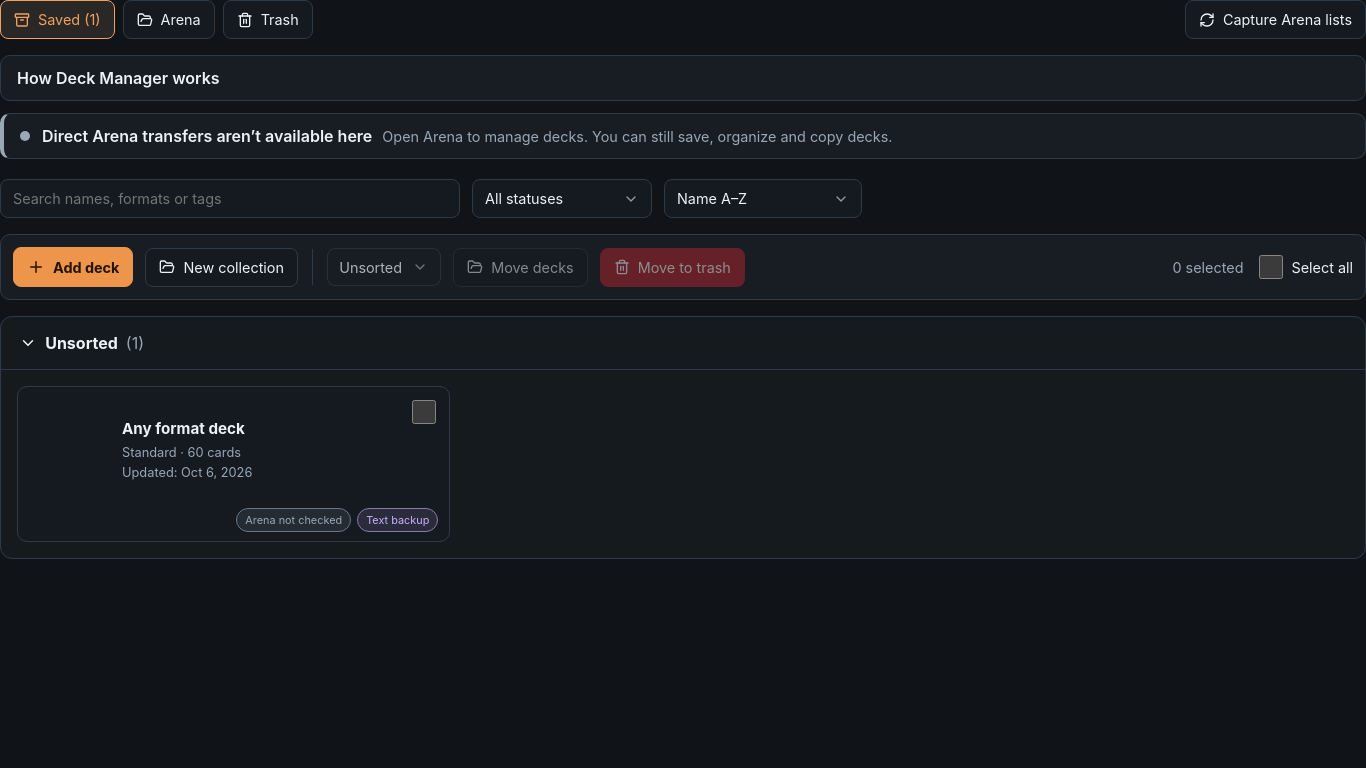
Deck Manager › retains the deck when a confirmed move to Trash fails
The image size is (1366, 768).
Click the button "Any format deck Standard · 60 cards Updated: Oct 6, 2026" at (234, 464), box [17, 386, 450, 542]
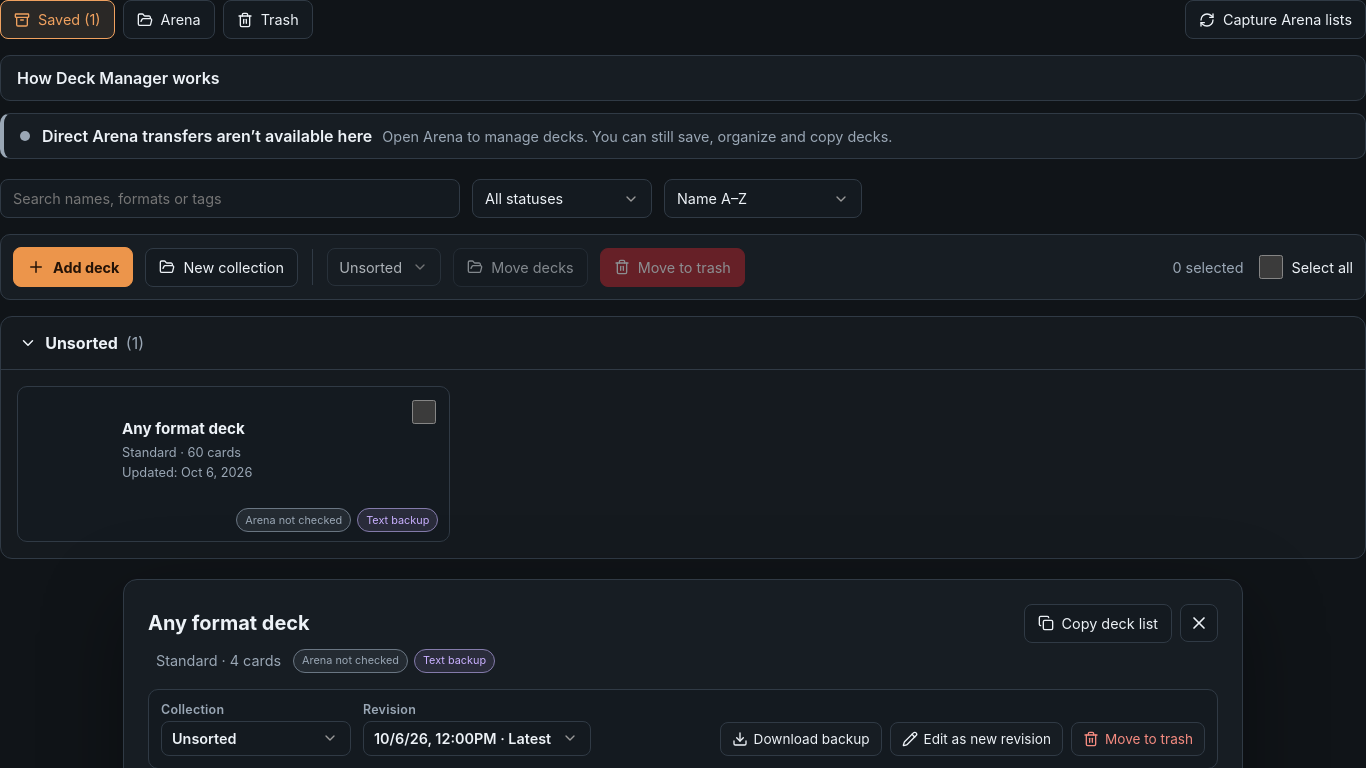
Click the 2nd button "Move to trash" at (1138, 739), box [1071, 722, 1205, 756]
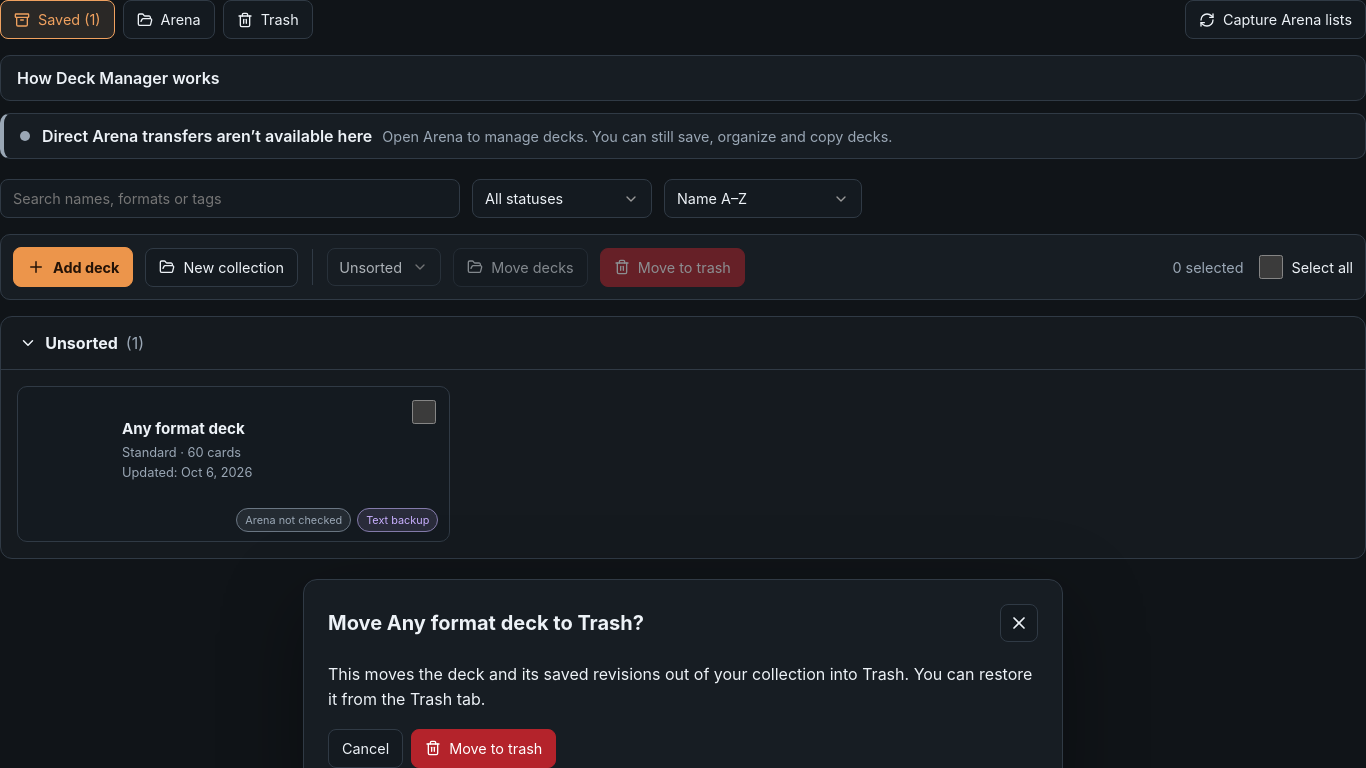
Click the button "Move to trash" below "Move Any format deck to Trash?" at (484, 748), box [411, 729, 556, 767]
(page scrolled)
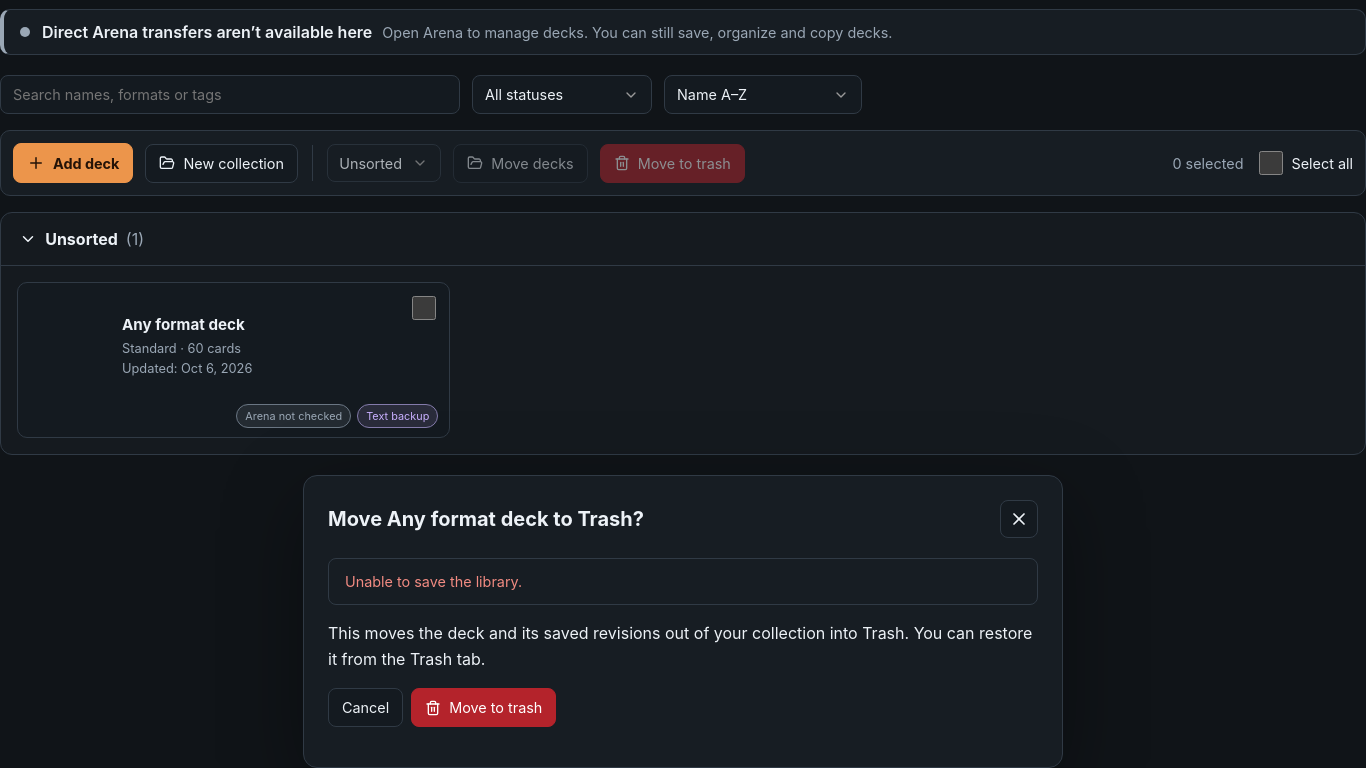
Expected: the message shows "Unable to save", [345, 573, 522, 590]
Click the button "Cancel" at (366, 708), box [328, 688, 403, 727]
(page scrolled)
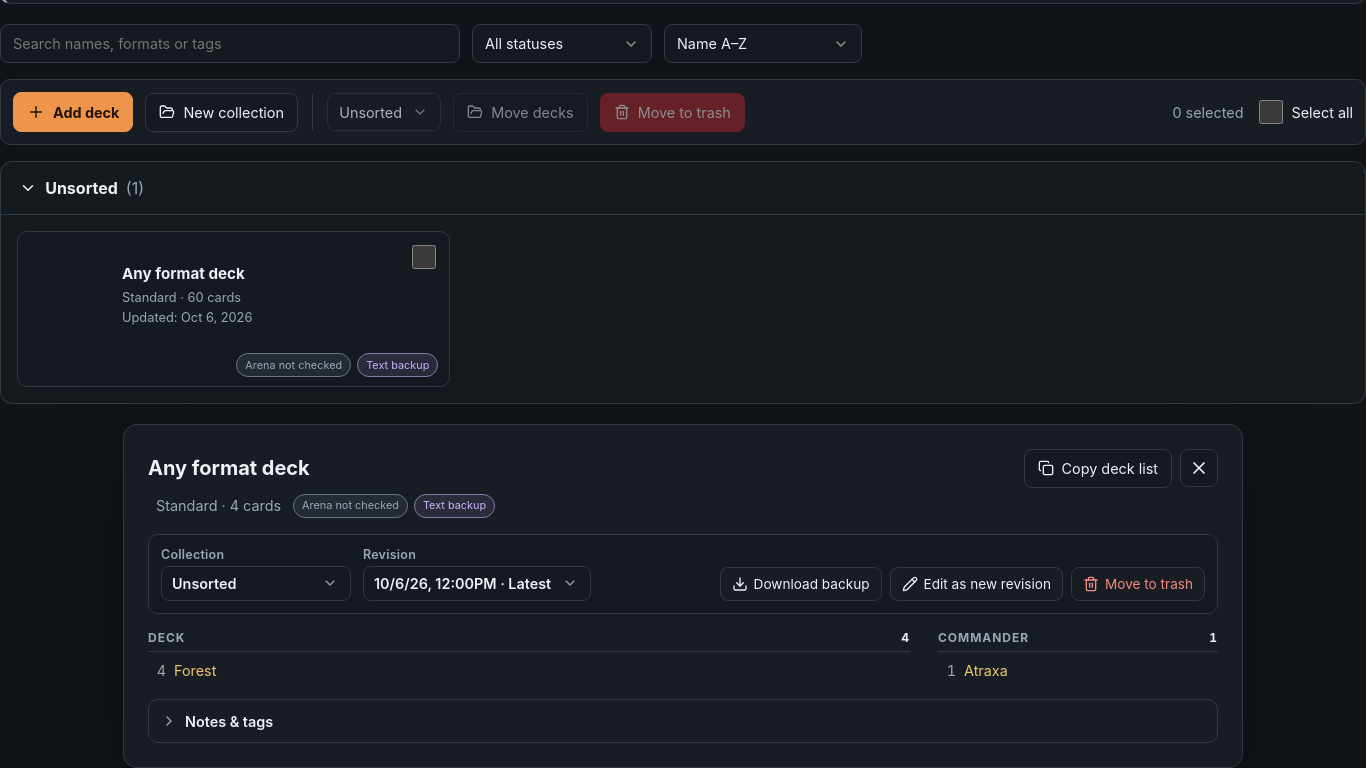
Expected: the dialog "Any format deck" shows "Forest", [174, 661, 216, 680]
